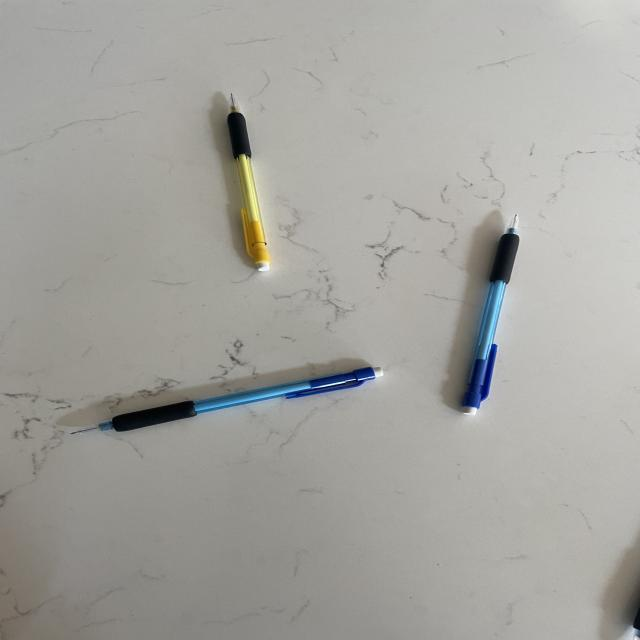mechanical-pencils: (78, 359, 391, 451), (445, 210, 528, 424), (220, 91, 278, 276)
